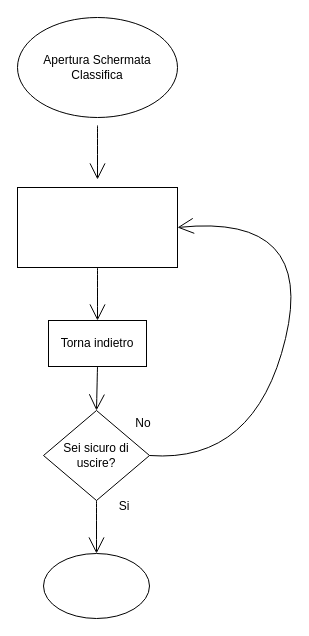
This 309x636 diagram has some shape labels left out. The shapes that lost their labels are listed below. From the top down, each one's centre as x and y in pixels, then its label:
At (97,227): "Visualizza classifica".
At (96,585): "Ritorno al menu Principale".
